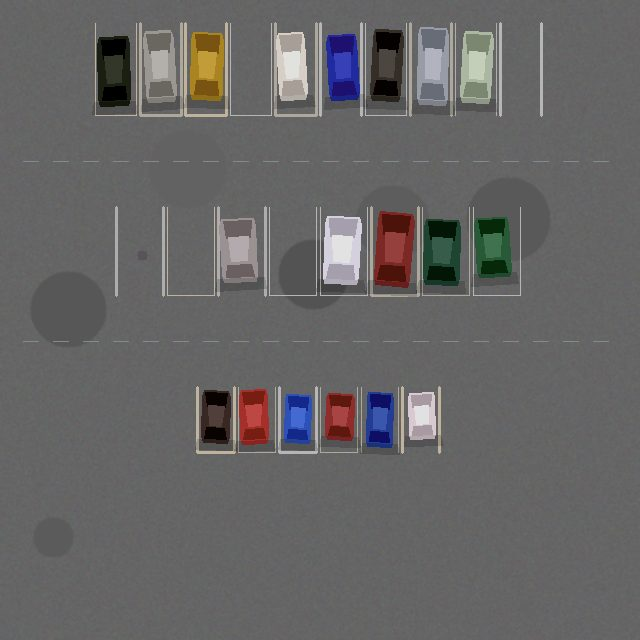space-empty: (116, 207, 163, 295), (167, 207, 214, 295), (269, 207, 316, 295), (230, 23, 271, 115), (500, 23, 541, 115)
space-occupied: (218, 207, 265, 295), (320, 207, 367, 295), (371, 207, 418, 295), (422, 207, 469, 295), (473, 207, 520, 295), (95, 23, 136, 115), (140, 23, 181, 115), (185, 23, 226, 115), (275, 23, 316, 115), (320, 23, 361, 115), (365, 23, 406, 115), (410, 23, 451, 115), (455, 23, 496, 115), (197, 387, 234, 452), (238, 387, 275, 452), (279, 387, 316, 452), (320, 387, 357, 452), (361, 387, 398, 452), (402, 387, 439, 452)
